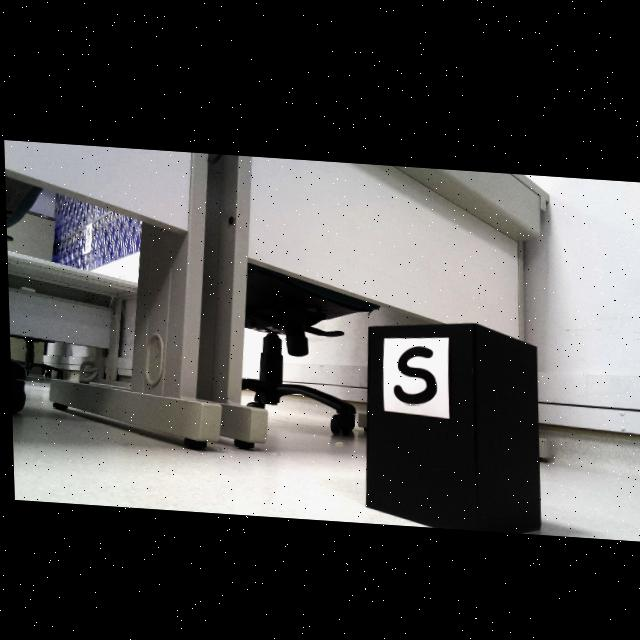S: (391, 341, 433, 399)
